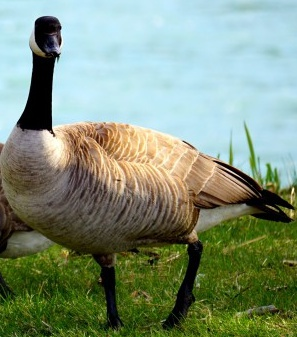goose: (1, 14, 297, 327)
